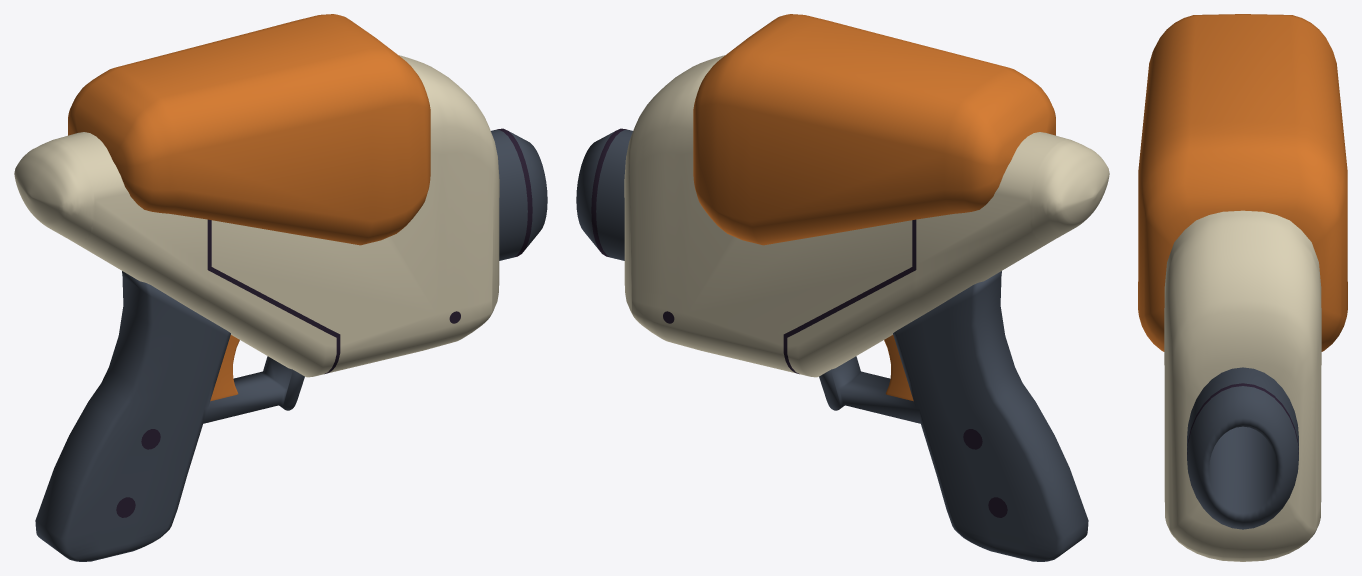
File: toy_gun.fbx
3 views of the same model, side by side, from view 1: azimuth 30°, elevation 25°; view 2: azimuth 150°, elevation 25°; view 3: azimuth 270°, elevation 25° (orthographic). The views are drawn at different scales.
Parts seen in each view (by area): view 1: Cylinder, Cylinder.005, Circle, Cylinder.002, Cube.001; view 2: Cylinder, Cylinder.005, Circle, Cylinder.002, Cube.001; view 3: Cylinder.005, Cylinder, Cylinder.002.
Boxes of the visible parts, bbox=[...] form: Cylinder: bbox=[14, 55, 499, 377]; Cylinder.005: bbox=[68, 14, 430, 245]; Circle: bbox=[35, 271, 304, 561]; Cylinder.002: bbox=[491, 128, 547, 260]; Cube.001: bbox=[210, 335, 239, 401]; Cylinder: bbox=[624, 55, 1109, 377]; Cylinder.005: bbox=[693, 14, 1055, 245]; Circle: bbox=[819, 271, 1088, 561]; Cylinder.002: bbox=[576, 128, 632, 260]; Cube.001: bbox=[884, 335, 913, 401]; Cylinder.005: bbox=[1138, 14, 1347, 351]; Cylinder: bbox=[1164, 210, 1321, 561]; Cylinder.002: bbox=[1187, 367, 1298, 529].
Bounding box in the file's own units: 590 × 513 × 184.
